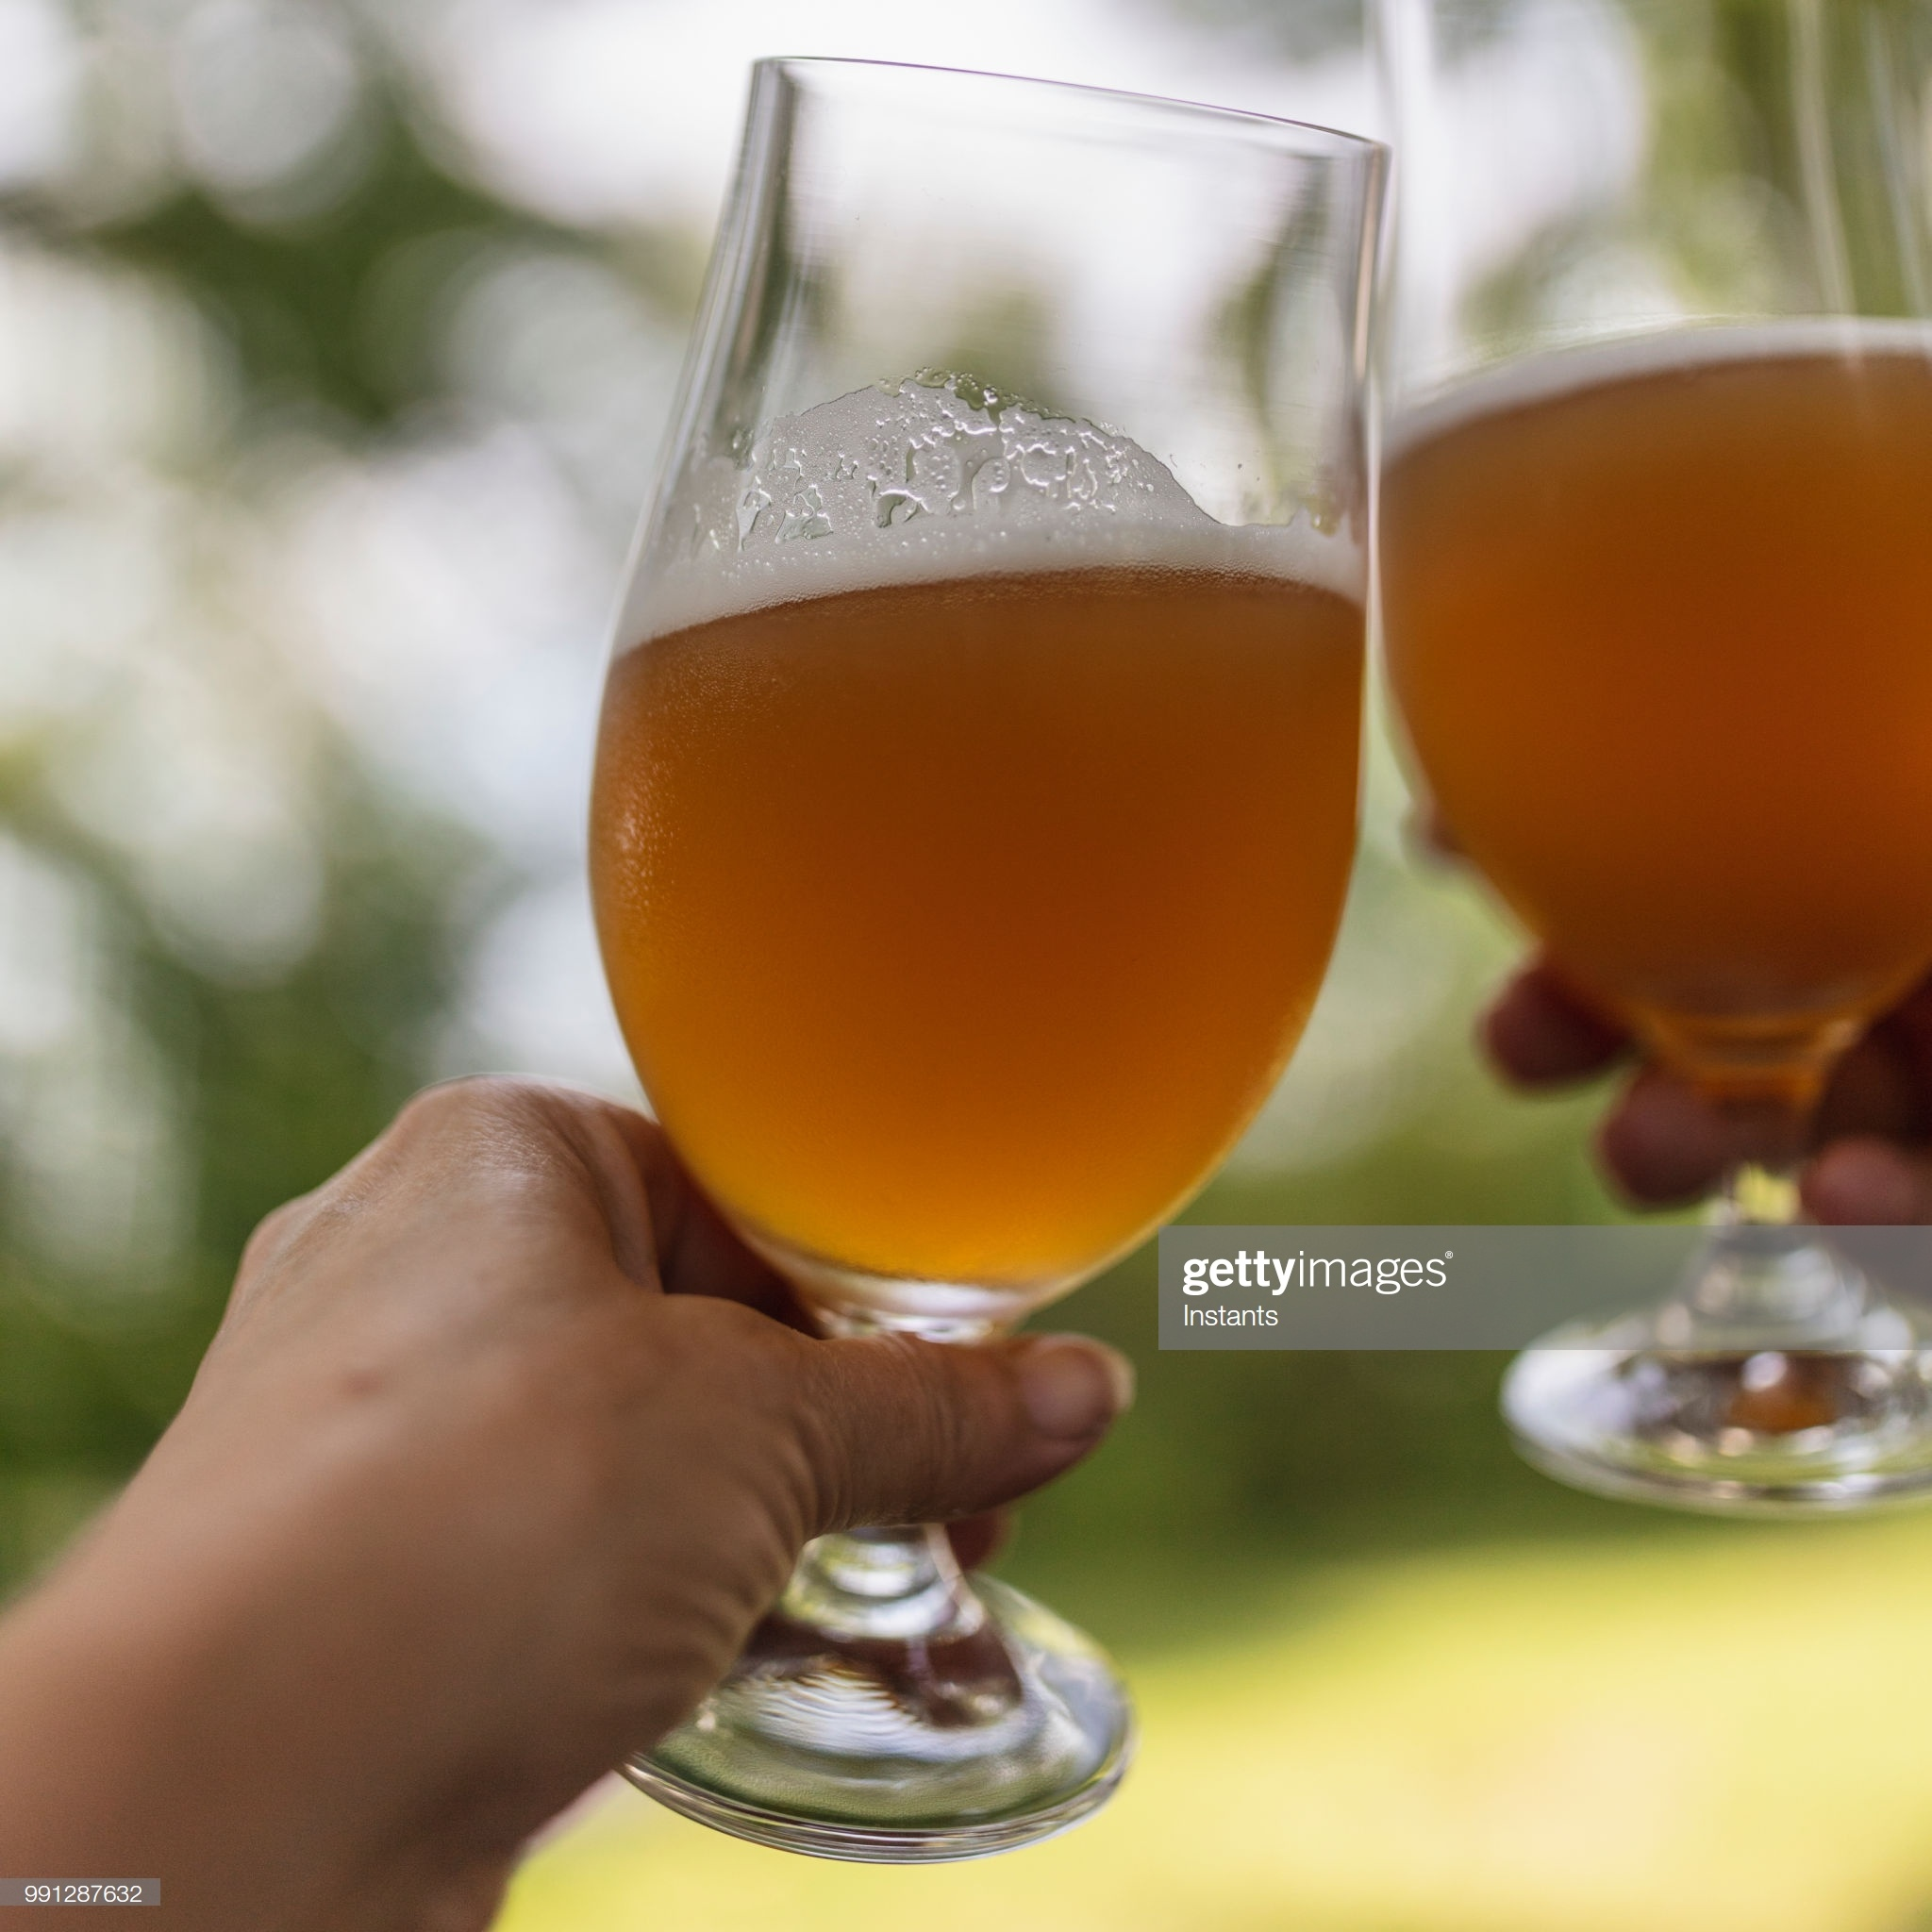glassBeer: (587, 58, 1391, 1856)
